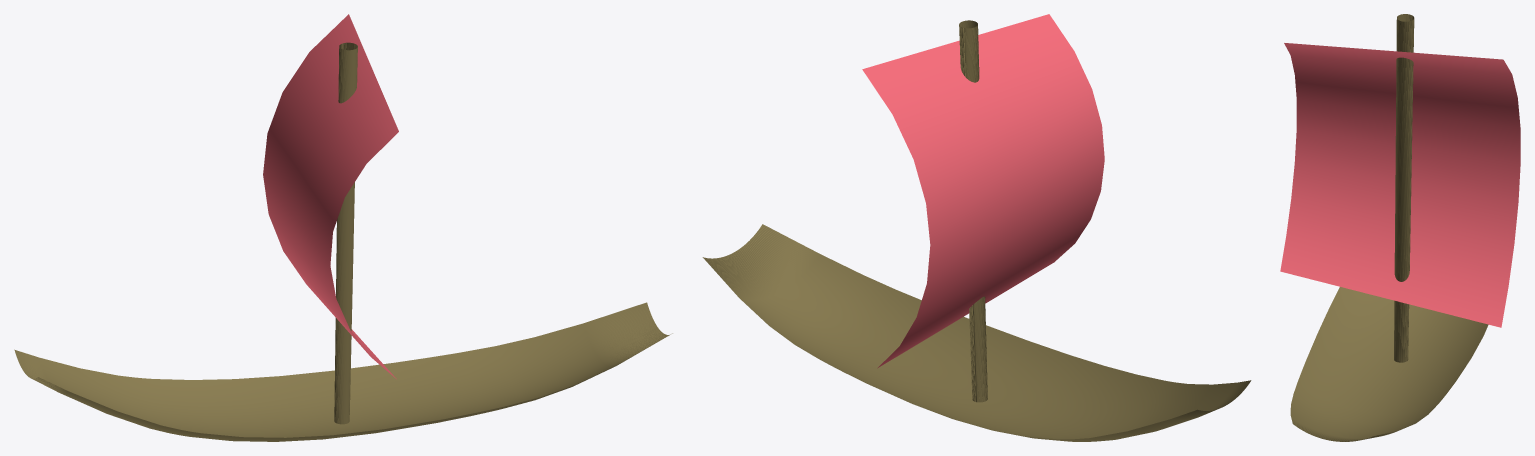
Rendered from sailingboat 1.fbx.
3 renders of one model, left to right at view 1: azimuth 30°, elevation 25°; view 2: azimuth 150°, elevation 25°; view 3: azimuth 270°, elevation 25°, orthographic. The views are drawn at different scales.
Visible parts, largest first — view 1: sailingboat2; view 2: sailingboat2; view 3: sailingboat2.
Boxes of the visible parts, bbox=[...] form: sailingboat2: bbox=[14, 14, 672, 441]; sailingboat2: bbox=[702, 14, 1251, 441]; sailingboat2: bbox=[1280, 14, 1520, 441].
Size of the model in its own units: 79.66 by 49.35 by 30.86.
